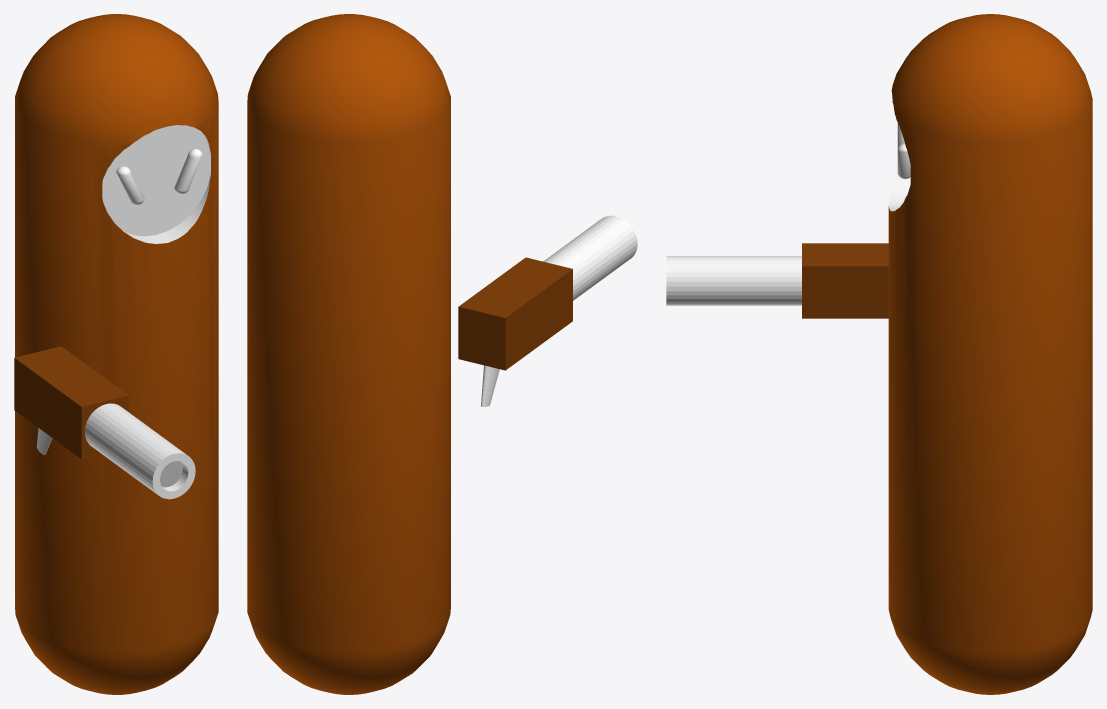
The model's file is EnemyRanged.fbx.
The picture shows the model from 3 angles, left to right: view 1: azimuth 30°, elevation 25°; view 2: azimuth 150°, elevation 25°; view 3: azimuth 270°, elevation 25°; orthographic projection.
Parts seen in each view (by area): view 1: RangedEnemy; view 2: RangedEnemy; view 3: RangedEnemy.
Boxes of the visible parts, bbox=[...] form: RangedEnemy: bbox=[14, 14, 218, 694]; RangedEnemy: bbox=[247, 14, 637, 694]; RangedEnemy: bbox=[666, 14, 1092, 694].
Bounding box in the file's own units: 34.19 × 99.27 × 57.99.
